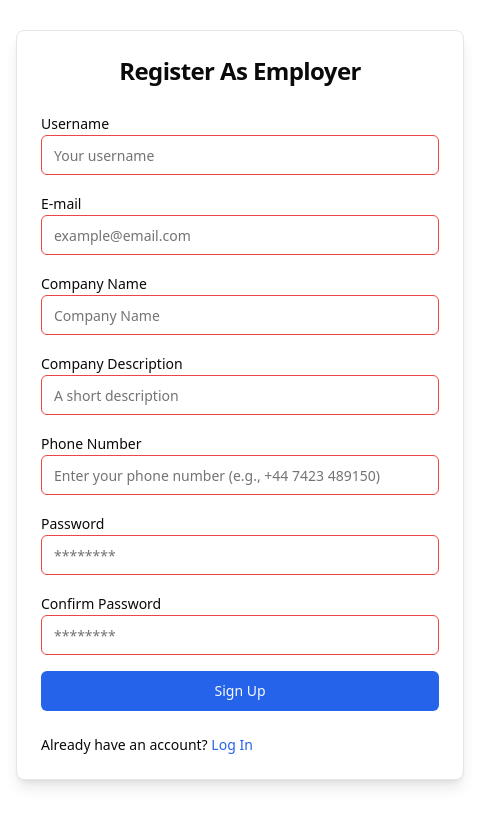
it: Company Signup Page › handles Supabase auth error
// Fill form with valid data
Type "companyuser" into the field labelled "Username".
click(240, 155); type("companyuser")  # box [41,135,439,175]
Type "existing@example.com" into the field labelled "E-mail".
click(240, 235); type("existing@example.com")  # box [41,215,439,255]
Type "Test Company" into the field labelled "Company Name".
click(240, 315); type("Test Company")  # box [41,295,439,335]
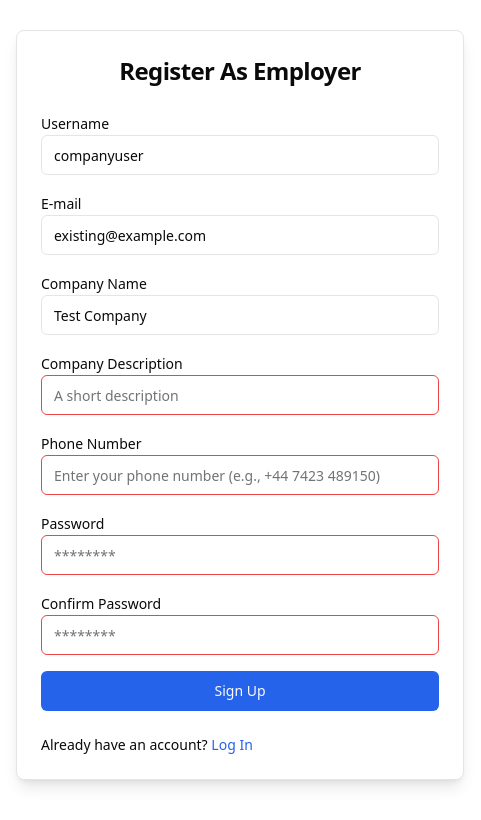
Type "A software company" into the field labelled "Company Description".
click(240, 395); type("A software company")  # box [41,375,439,415]
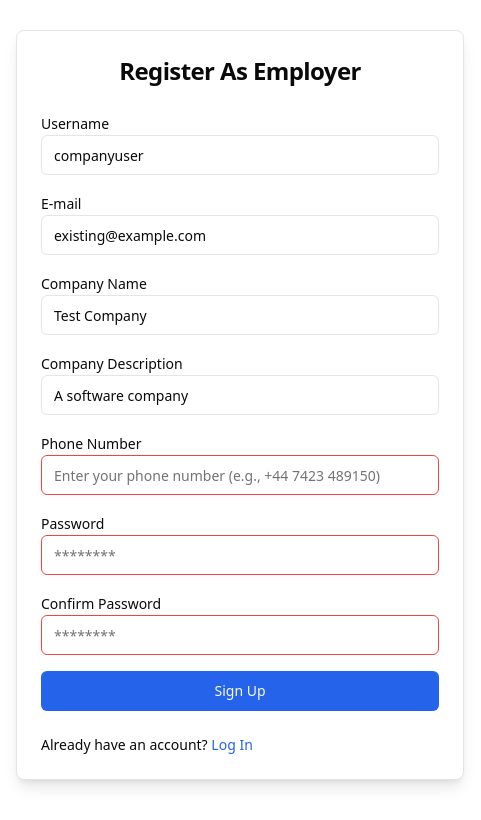
Type "+44 7423 489150" into the field labelled "Phone Number".
click(240, 475); type("+44 7423 489150")  # box [41,455,439,495]
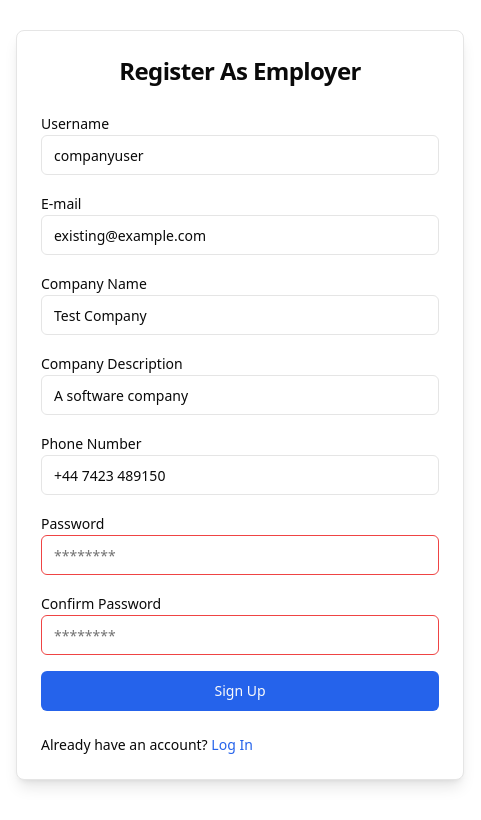
Type "password123" into the password field labelled "Password".
click(240, 555); type("password123")  # box [41,535,439,575]
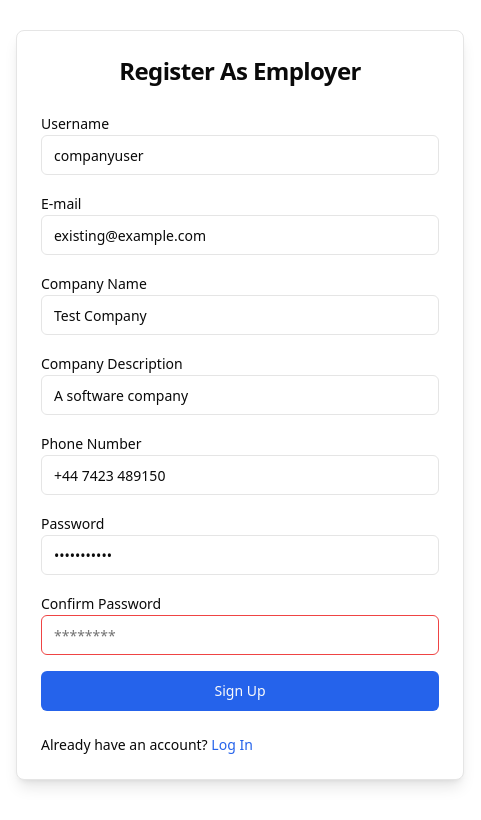
Type "password123" into the password field labelled "Confirm Password".
click(240, 635); type("password123")  # box [41,615,439,655]
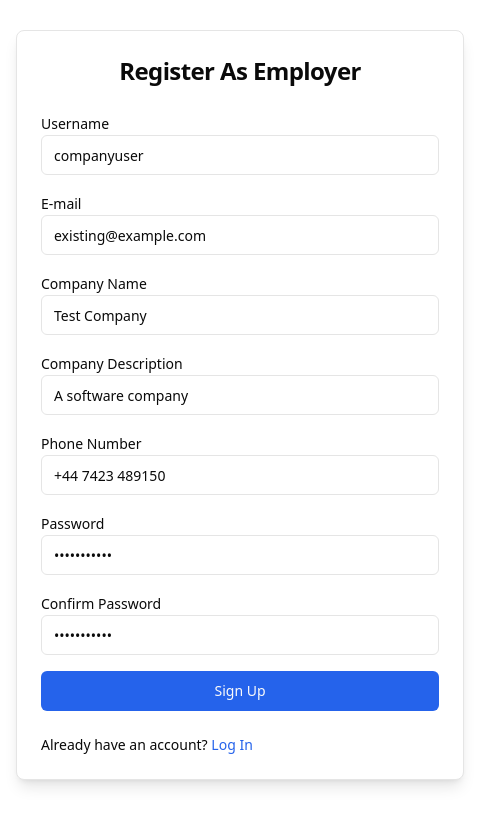
// Submit form
Submit the form from the button "Sign Up", box [41,671,439,711]
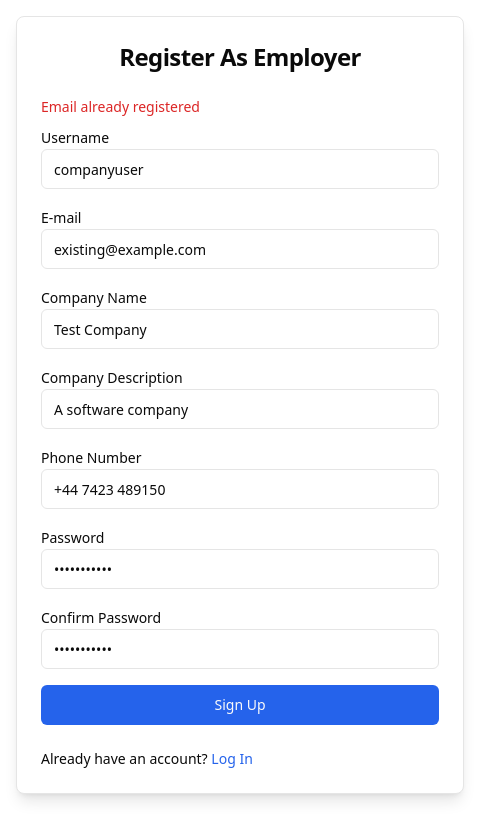
Now the text "Email already registered" is shown, box [41,97,200,116]
